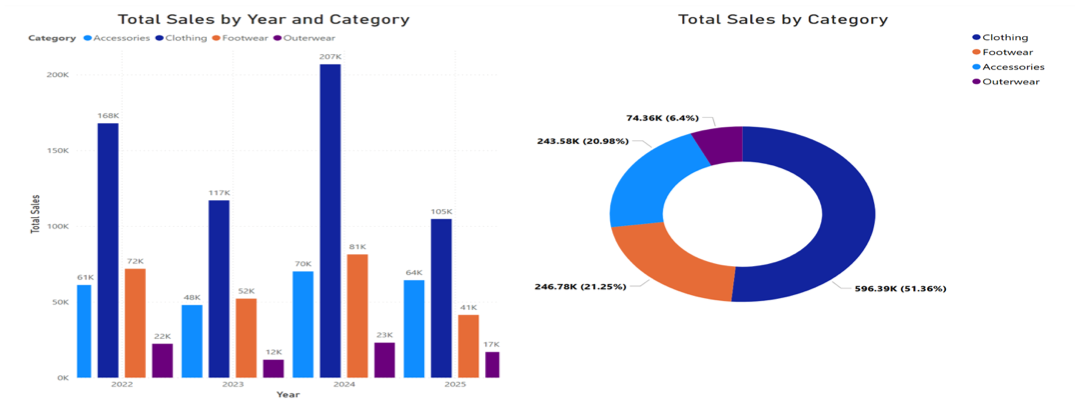

This screenshot's page, from the dashboard's own definition file:
{"tool":"powerbi","page":{"name":"Sales & Growth Analysis Based on Category","canvas":[1280,720],"ordinal":1},"visuals":[{"type":"clusteredColumnChart","fields":{"Category":["DateTable.Date.Variation.Date Hierarchy.Year"],"Y":["RetailTable.Total Sales"],"Series":["RetailTable.Category"]},"box":[24.2,15.7,572.4,704.3],"z":0},{"type":"donutChart","fields":{"Category":["RetailTable.Category"],"Y":["RetailTable.Total Sales"]},"box":[604.3,15.9,651.9,704.2],"z":1000}]}

Visuals, with their boxes on the page's 1280x720 design canvas (x1, y1, x2, y2). These are canvas units, not pixel positions in the 1080x410 screenshot, which may show the page scaled, cropped or inside an application window:
clusteredColumnChart - DateTable.Date.Variation.Date Hierarchy.Year x RetailTable.Total Sales: box(24, 16, 597, 720)
donutChart - RetailTable.Category x RetailTable.Total Sales: box(604, 16, 1256, 720)
